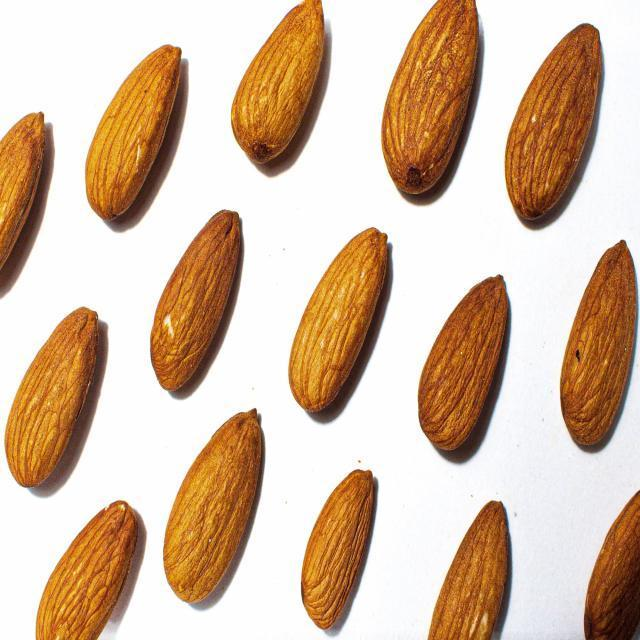almond: (162, 402, 268, 607), (374, 0, 483, 193), (503, 22, 605, 223), (290, 228, 397, 415), (77, 48, 185, 227), (556, 236, 640, 451), (4, 310, 104, 490), (150, 209, 245, 394), (417, 270, 510, 458), (228, 0, 328, 161), (35, 498, 143, 640), (425, 496, 515, 640), (302, 467, 378, 628), (0, 106, 53, 273), (583, 484, 640, 636)
